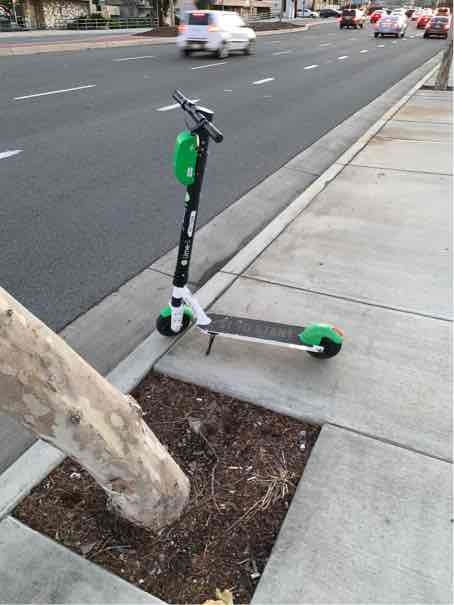too close: (140, 289, 223, 362)
